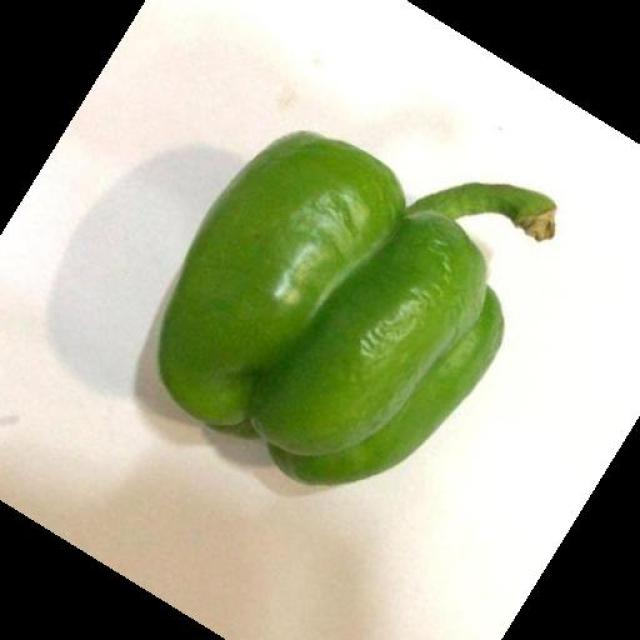Fresh_Capsicum: (172, 150, 504, 440)
